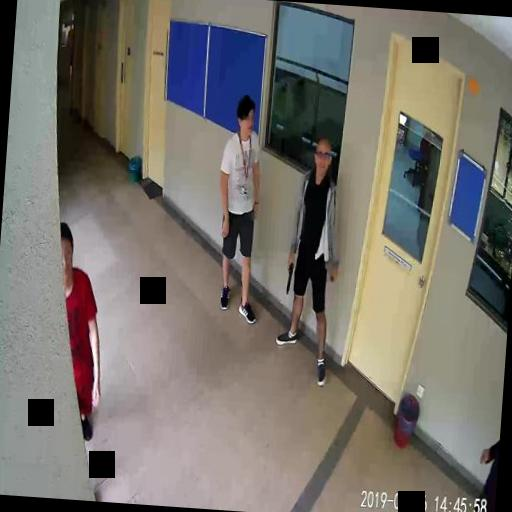Handgun: (282, 258, 292, 294)
